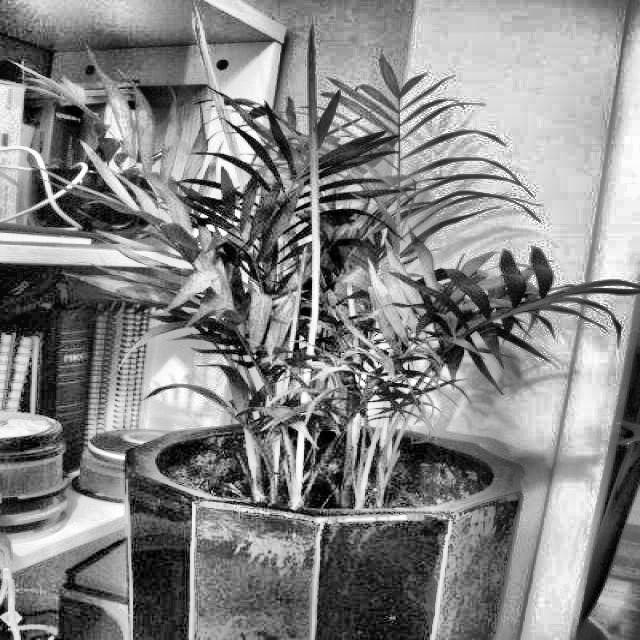plants: (95, 48, 570, 635)
